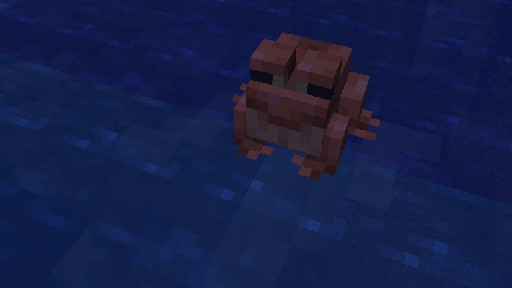frog: (229, 31, 380, 180)
